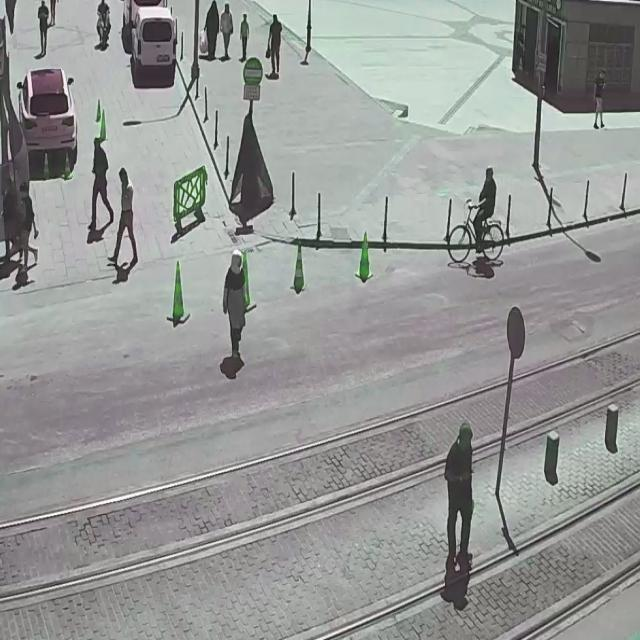Car: (18, 54, 85, 174)
Cycle: (441, 159, 520, 268), (89, 0, 118, 51)
Van: (123, 5, 186, 89)
